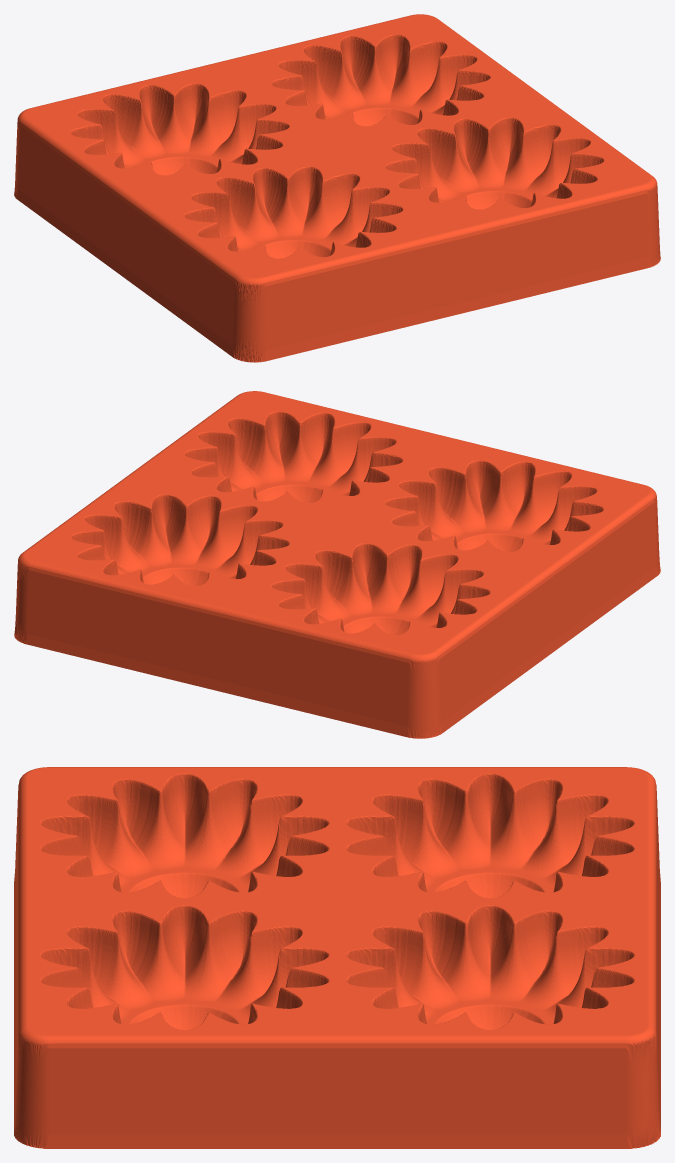
Rendered from mold.glb.
The picture shows the model from 3 angles, top to bottom: view 1: azimuth 30°, elevation 25°; view 2: azimuth 150°, elevation 25°; view 3: azimuth 270°, elevation 25°; orthographic projection. The views are drawn at different scales.
Parts seen in each view (by area): view 1: geometry_0; view 2: geometry_0; view 3: geometry_0.
Boxes of the visible parts, x1,y1,x2,y2 form: geometry_0: [14, 14, 660, 362]; geometry_0: [14, 391, 660, 738]; geometry_0: [14, 767, 660, 1148].
Bounding box in the file's own units: 0.1721 × 0.031 × 0.1687.
